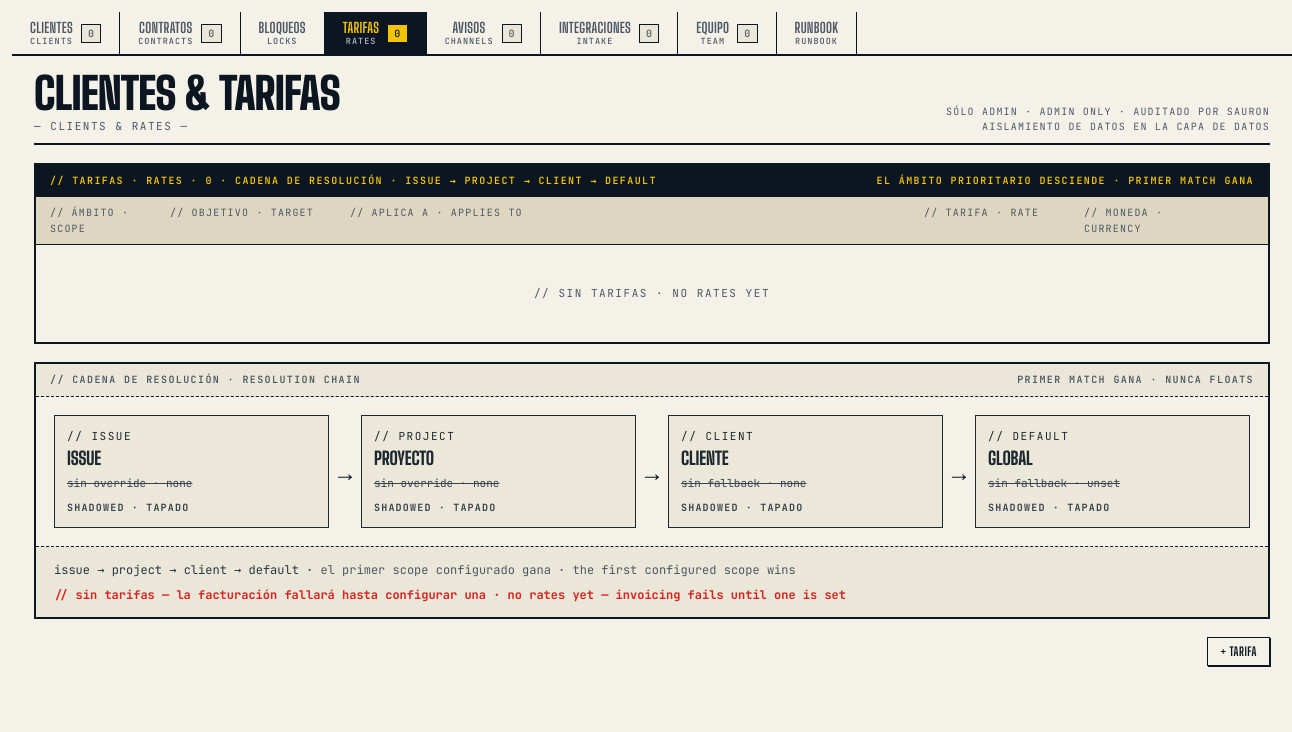
Test: SettingsPage › shows the inline rate error when upsert rejects
Expected: the text "// sin tarifas · no rates yet" is shown, [534,285,770,302]
Click the button "+ Tarifa" at (1239, 651), box [1207,637,1270,666]
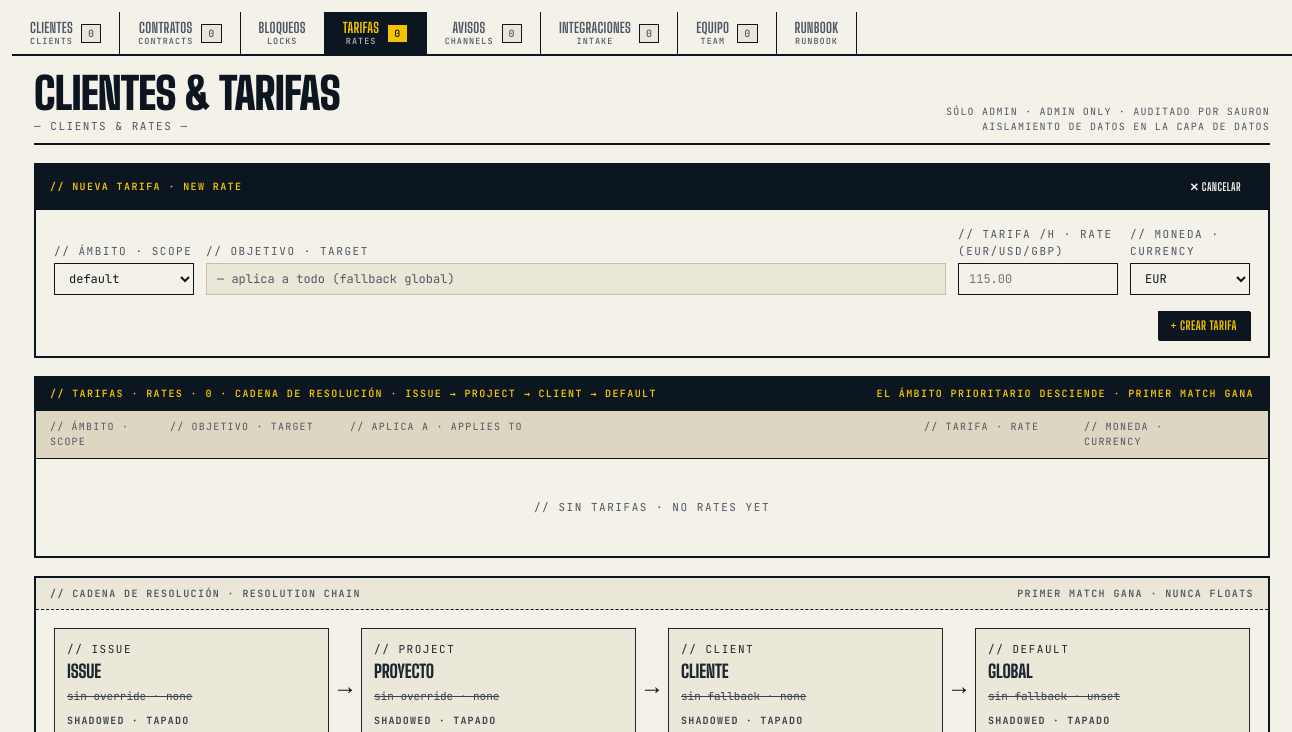
Type "50" into the number field with placeholder "115.00" at (1038, 279), box [958,263,1118,295]
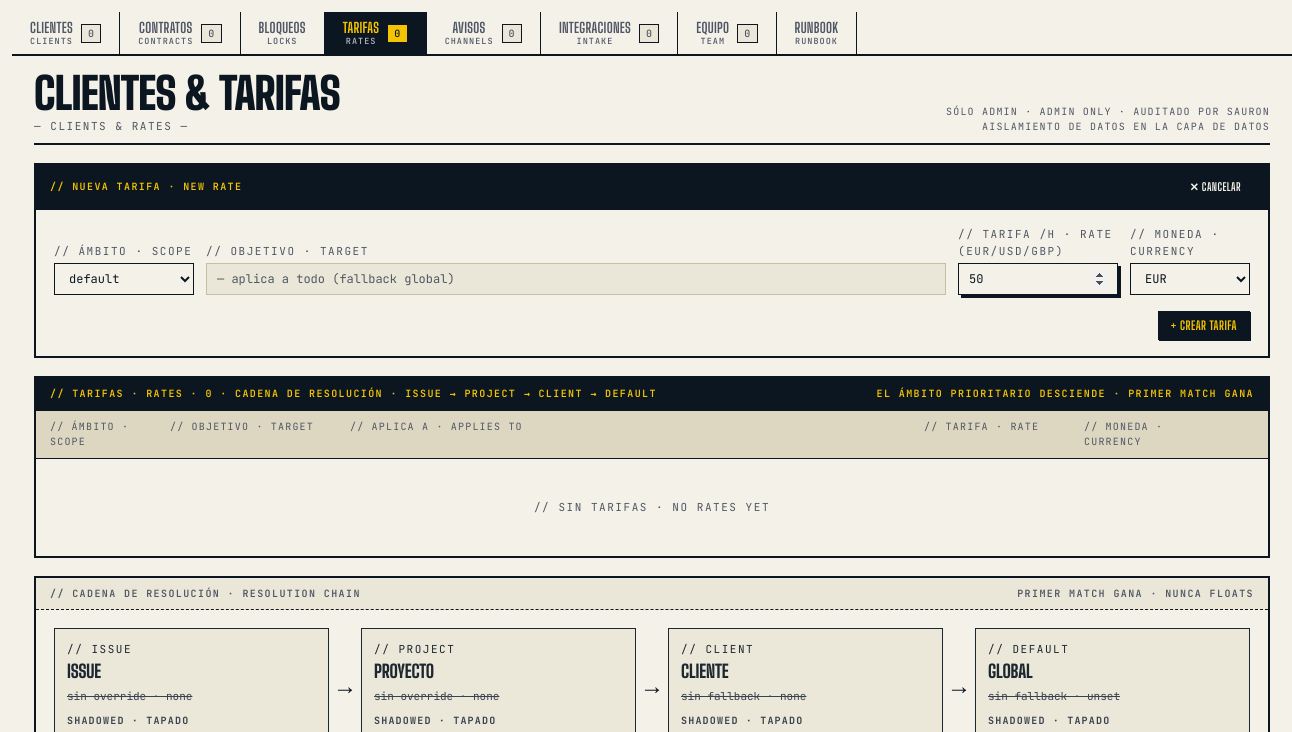
Click the button "+ Crear Tarifa" at (1204, 326), box [1158,311,1250,340]
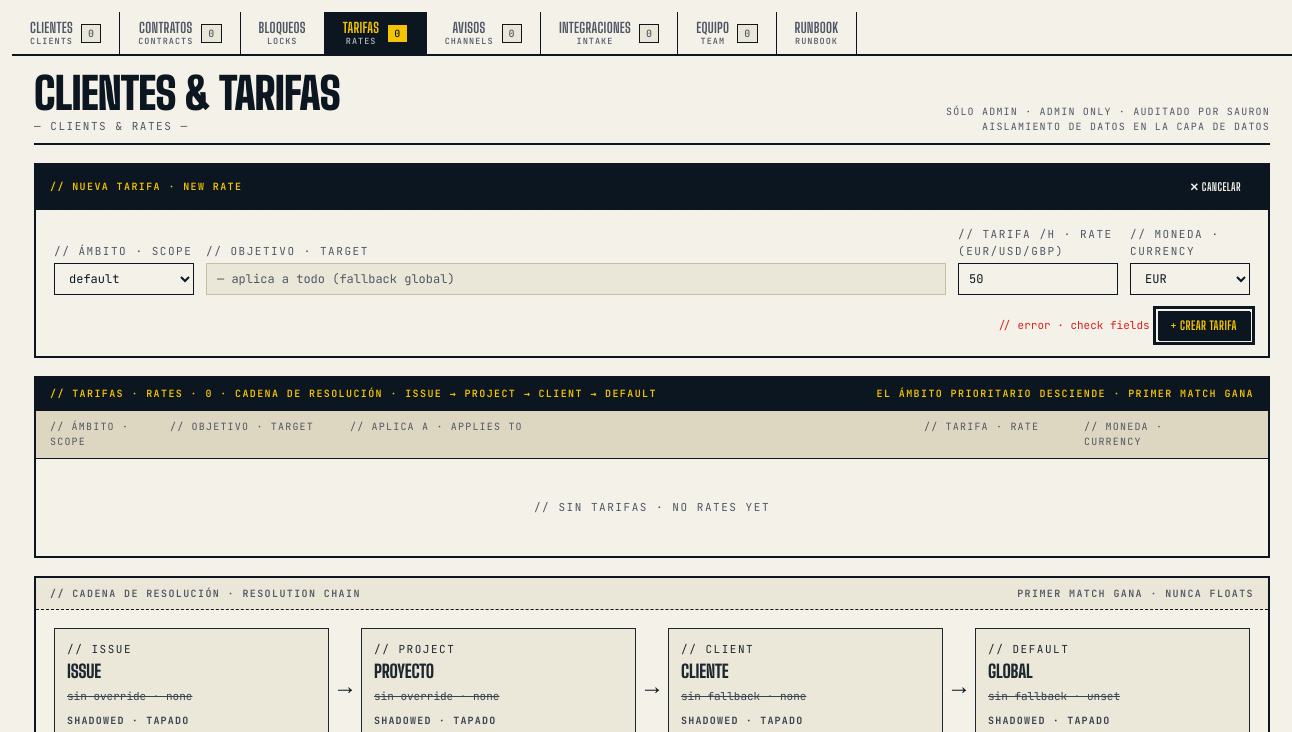
Now the text "// error · check fields" is shown, box [998,317,1150,334]
